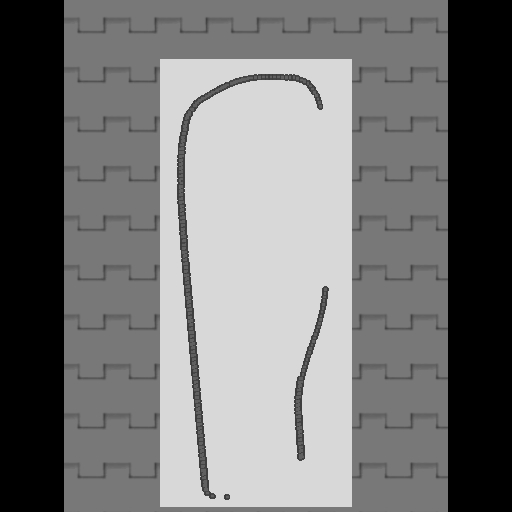Defect: (315, 108, 336, 289)
